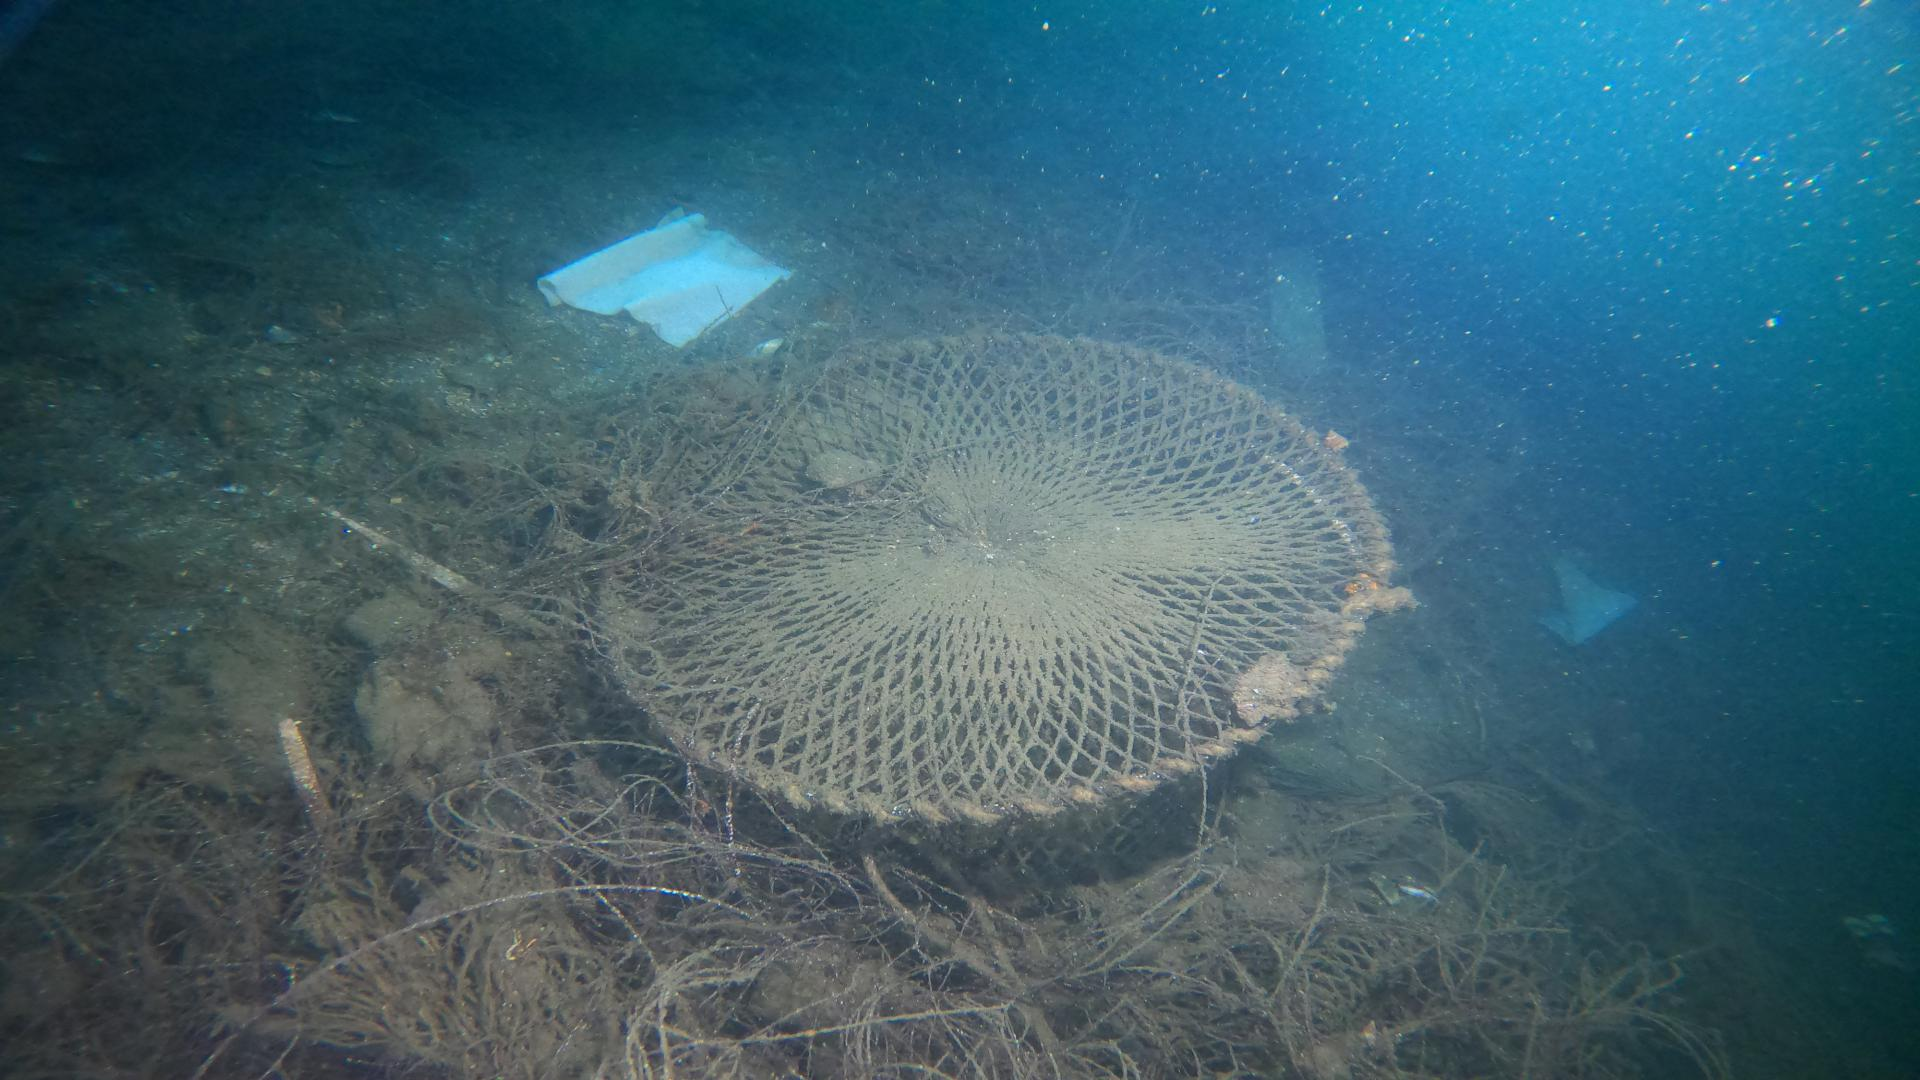circular fish trap: (572, 320, 1412, 852)
